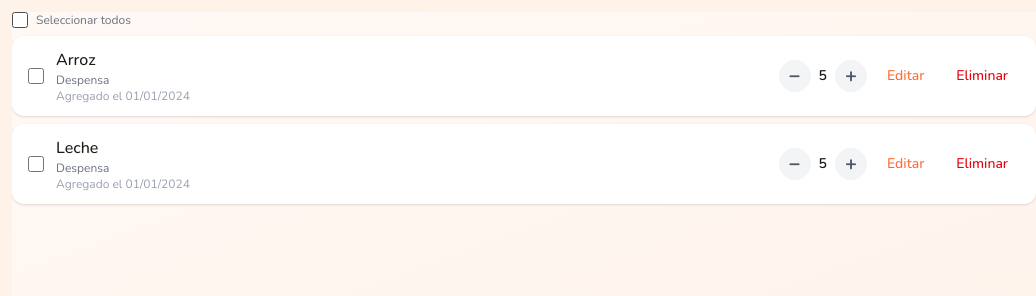
Test: ProductList — bulk delete › deselects all products when toggleAll is clicked while all are selected (lines 57-60)
The width and height of the screenshot is (1036, 296).
# Select all — allSelected becomes true
Click the checkbox labelled "Seleccionar todos".
click(20, 20)  # box x1=12 y1=12 x2=28 y2=28
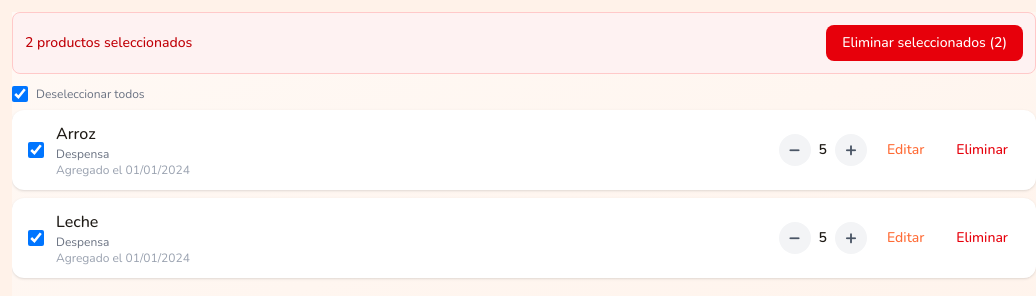
Expected: the button "Eliminar seleccionados (2)" is shown, x1=826 y1=25 x2=1023 y2=61
# Deselect all — exercises lines 57-60 (allSelected branch of toggleAll)
Click the checkbox labelled "Deseleccionar todos".
click(20, 94)  # box x1=12 y1=86 x2=28 y2=102
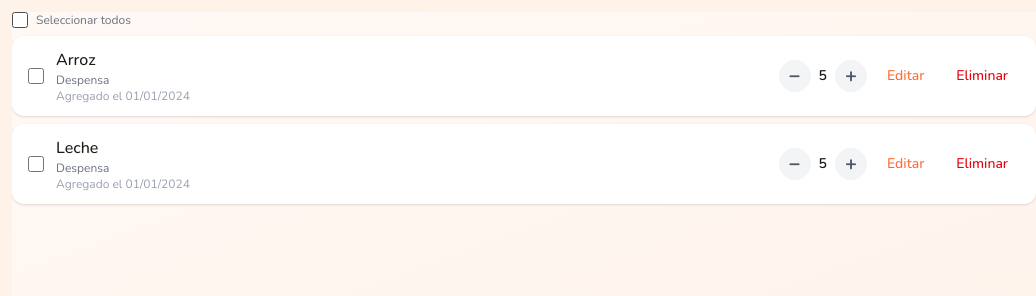
Expected: the button "Eliminar seleccionados" is gone
